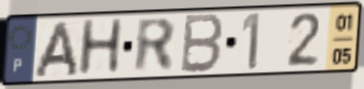1: (240, 11, 261, 74)
2: (286, 11, 323, 69)
A: (31, 19, 81, 80)
B: (178, 13, 226, 76)
H: (75, 16, 126, 79)
R: (133, 17, 178, 76)
